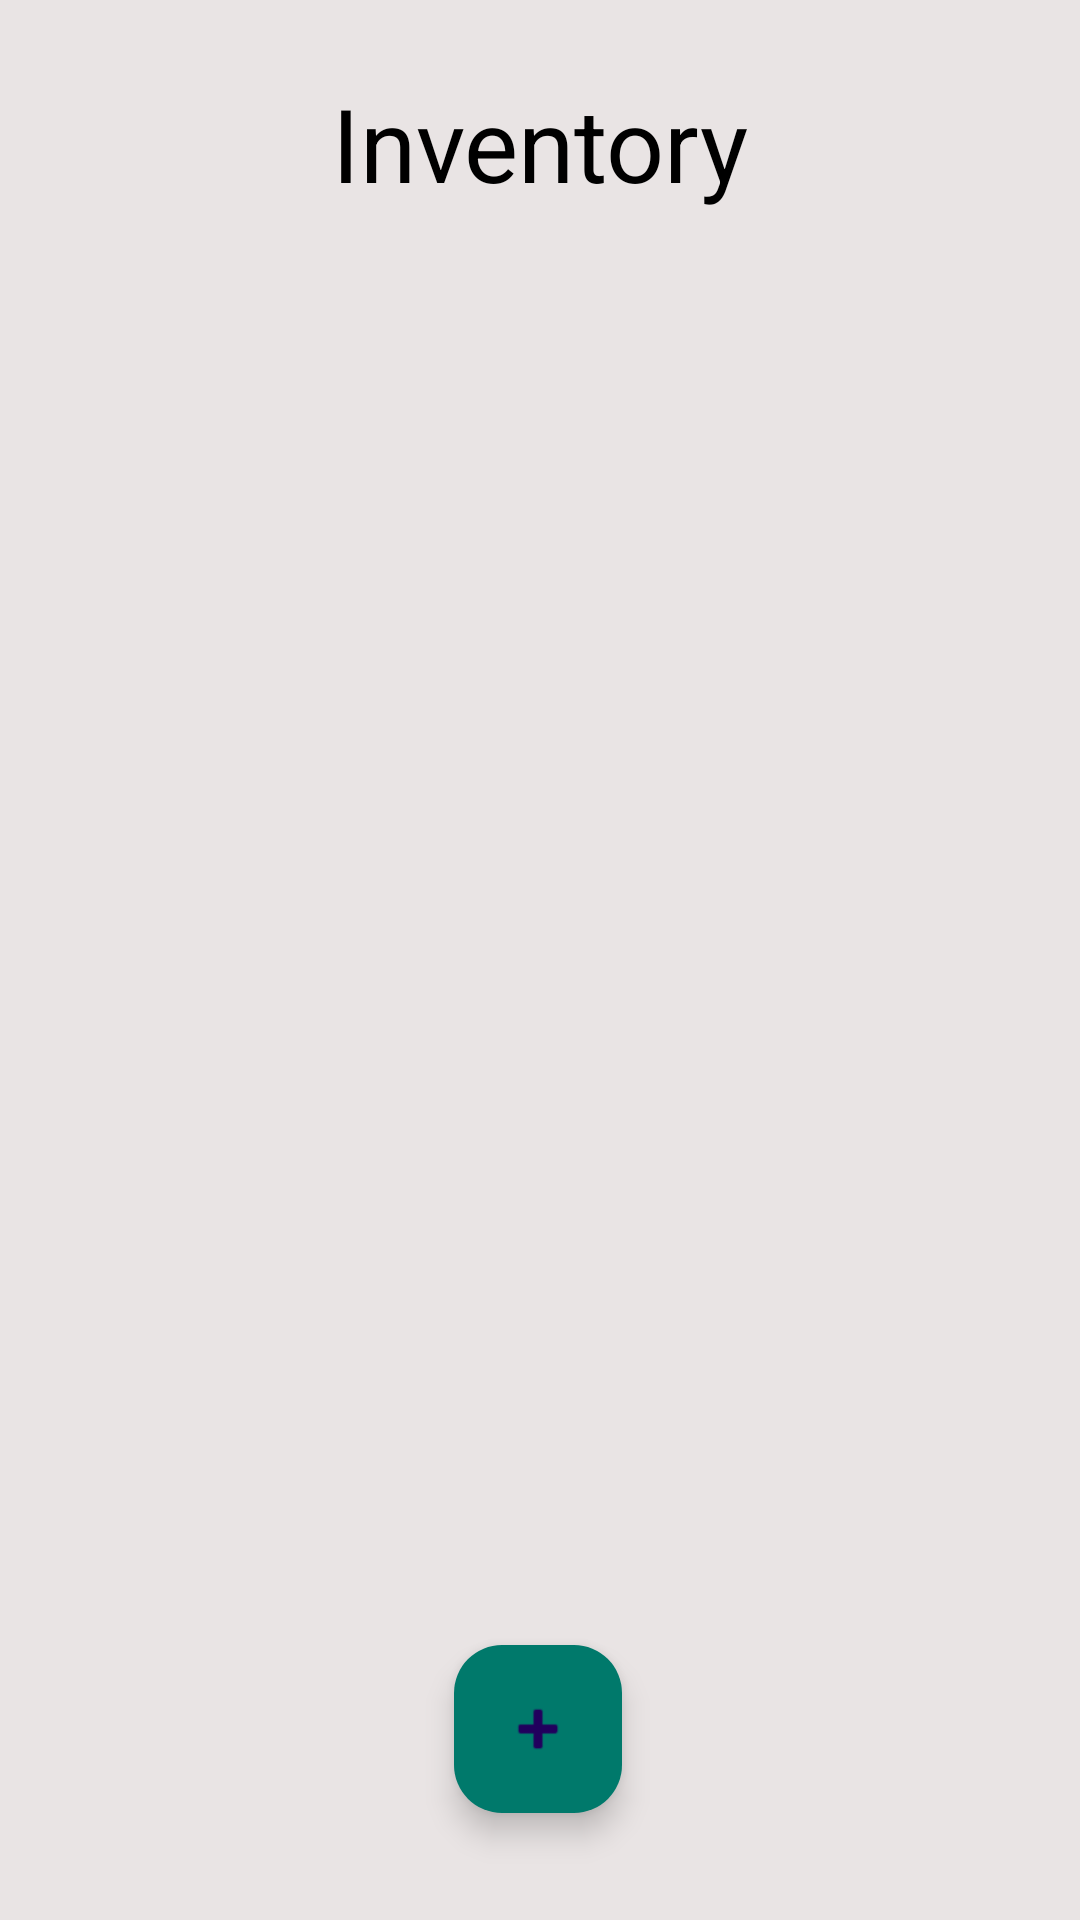

Icons on this 1080px x 1920px Android screen, each with the point to tap as [x,y]:
Add Item: [538,1729]
